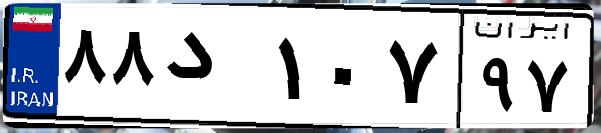0: (330, 28, 385, 110)
1: (270, 28, 330, 110)
7: (385, 28, 445, 110), (525, 38, 570, 115)
8: (57, 26, 110, 100), (110, 28, 158, 98)
9: (475, 38, 525, 113)
د: (158, 20, 270, 120)
